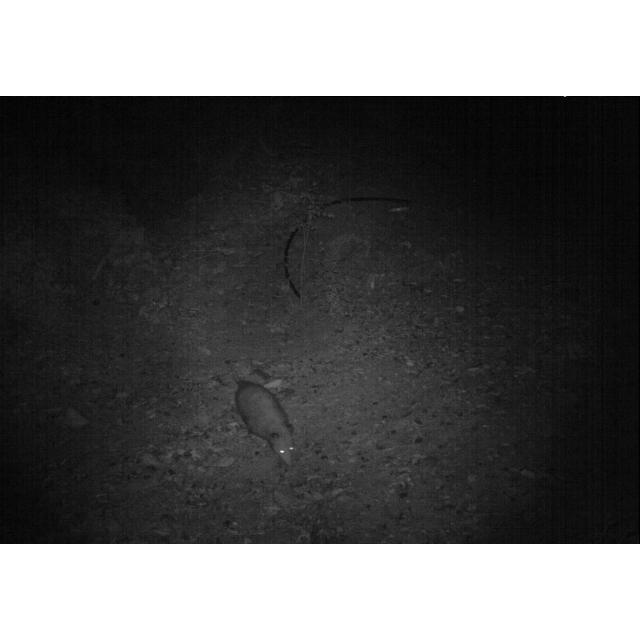animals: (225, 360, 299, 472)
